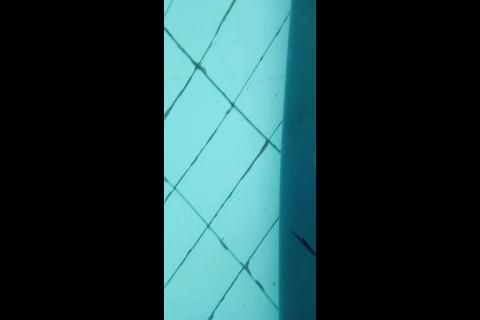keretakan: (289, 231, 315, 260)
